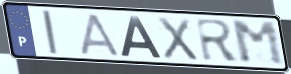A: (119, 14, 164, 59), (79, 12, 122, 58)
I: (40, 9, 61, 56)
M: (229, 20, 288, 67)
R: (193, 17, 242, 63)
X: (155, 15, 201, 63)
